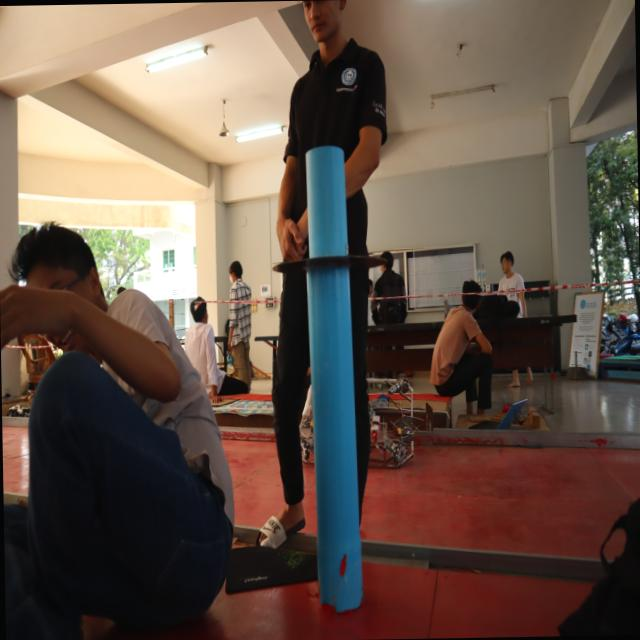pole: (262, 140, 391, 377)
